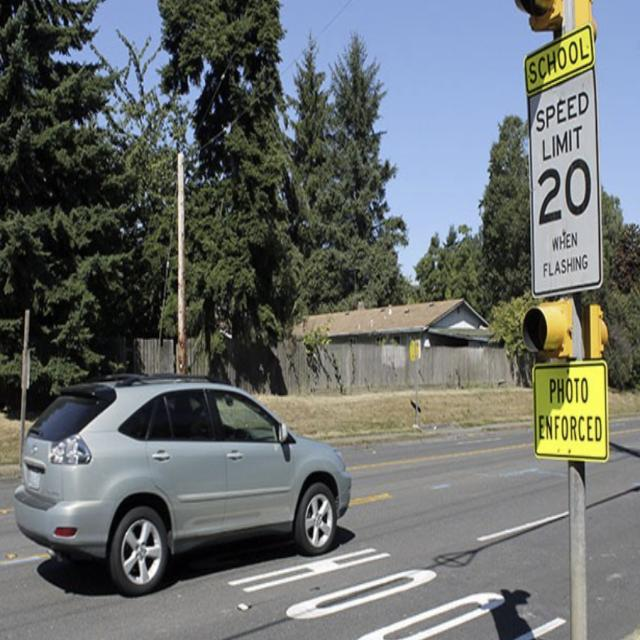speedLimit20: (533, 86, 595, 234)
